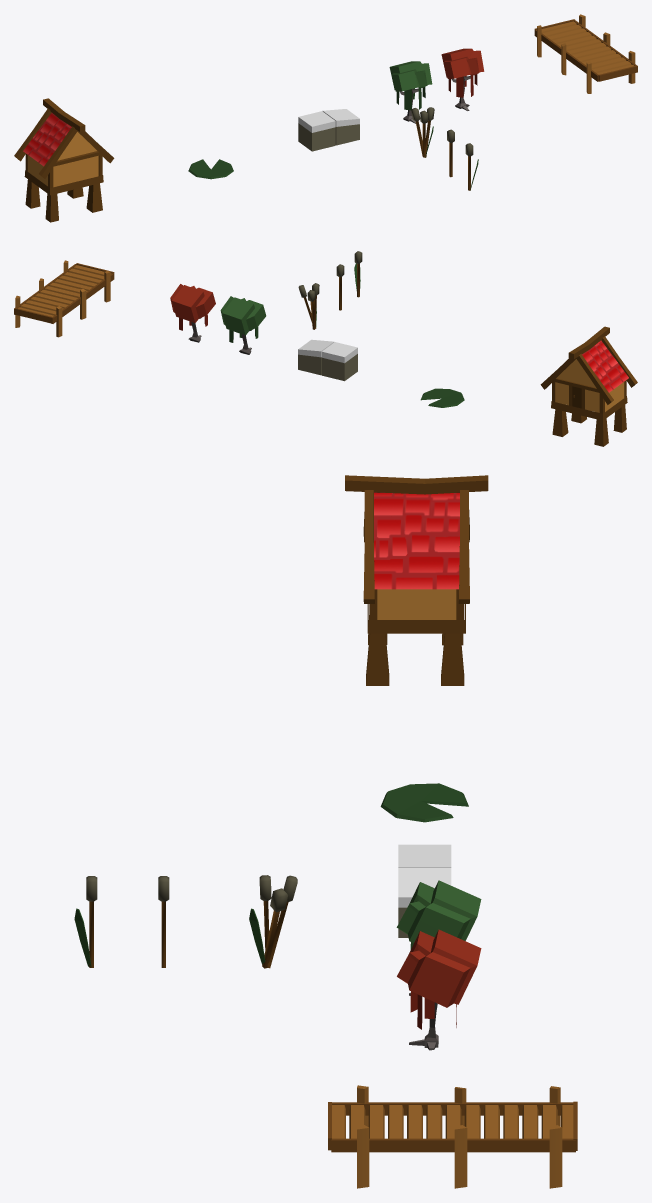
Rendered from Swamp.fbx.
3 views of the same model, one above another, from view 1: azimuth 30°, elevation 25°; view 2: azimuth 150°, elevation 25°; view 3: azimuth 270°, elevation 25° (orthographic). The views are drawn at different scales.
Visible parts, largest first — view 1: Houses_FirstAge_1_Level1.001, Pier, Cube.002, SA_Prop_TreeDeadBurnt_04.004, SA_Prop_TreeDeadBurnt_04.009, Cube.001, Cube.022, LilyPad, SA_Prop_TreeDeadBurnt_04.002, SA_Prop_TreeDeadBurnt_04.008; view 2: Houses_FirstAge_1_Level1.001, Pier, Cube.002, SA_Prop_TreeDeadBurnt_04.002, SA_Prop_TreeDeadBurnt_04.008, Cube.001, LilyPad, SA_Prop_TreeDeadBurnt_04.009, SA_Prop_TreeDeadBurnt_04.004, Cube.022; view 3: Houses_FirstAge_1_Level1.001, Pier, SA_Prop_TreeDeadBurnt_04.002, SA_Prop_TreeDeadBurnt_04.008, LilyPad, SA_Prop_TreeDeadBurnt_04.004, Cube.022, Cube.001, Cube.002, Cube.024.
Part boxes in pixels (<box>): Houses_FirstAge_1_Level1.001: <box>14,98,114,222</box>; Pier: <box>534,14,637,93</box>; Cube.002: <box>298,111,335,151</box>; SA_Prop_TreeDeadBurnt_04.004: <box>444,58,484,97</box>; SA_Prop_TreeDeadBurnt_04.009: <box>392,71,432,110</box>; Cube.001: <box>322,109,359,145</box>; Cube.022: <box>411,107,434,157</box>; LilyPad: <box>188,159,233,179</box>; SA_Prop_TreeDeadBurnt_04.002: <box>441,48,481,66</box>; SA_Prop_TreeDeadBurnt_04.008: <box>389,61,429,79</box>; Houses_FirstAge_1_Level1.001: <box>540,326,637,446</box>; Pier: <box>14,260,114,337</box>; Cube.002: <box>321,342,357,381</box>; SA_Prop_TreeDeadBurnt_04.002: <box>170,284,213,315</box>; SA_Prop_TreeDeadBurnt_04.008: <box>220,296,263,328</box>; Cube.001: <box>298,339,334,375</box>; LilyPad: <box>420,388,464,407</box>; SA_Prop_TreeDeadBurnt_04.009: <box>222,308,266,344</box>; SA_Prop_TreeDeadBurnt_04.004: <box>171,295,215,331</box>; Cube.022: <box>298,283,319,329</box>; Houses_FirstAge_1_Level1.001: <box>345,475,488,685</box>; Pier: <box>328,1085,577,1188</box>; SA_Prop_TreeDeadBurnt_04.002: <box>408,929,481,987</box>; SA_Prop_TreeDeadBurnt_04.008: <box>408,880,481,937</box>; LilyPad: <box>380,783,468,822</box>; SA_Prop_TreeDeadBurnt_04.004: <box>397,939,466,1029</box>; Cube.022: <box>249,875,297,968</box>; Cube.001: <box>398,867,451,937</box>; Cube.002: <box>398,844,451,867</box>; Cube.024: <box>74,876,97,967</box>.
Size of the model in its own units: 50.1 by 7.71 by 18.99.
